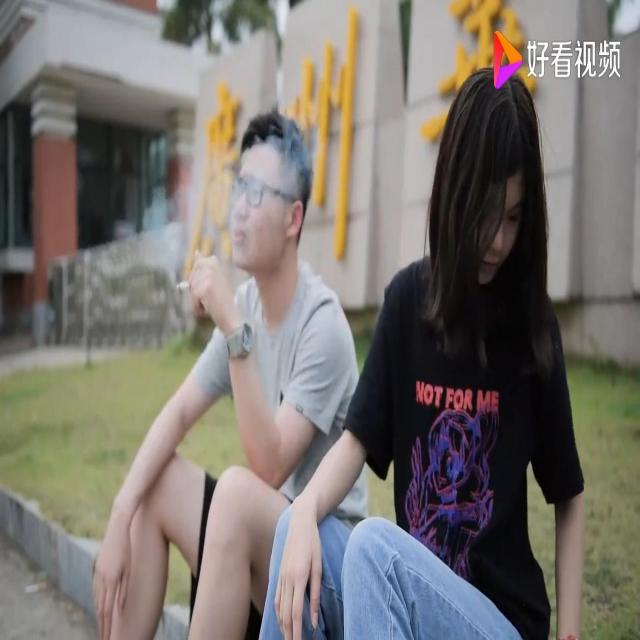cigarette: (171, 267, 203, 304)
